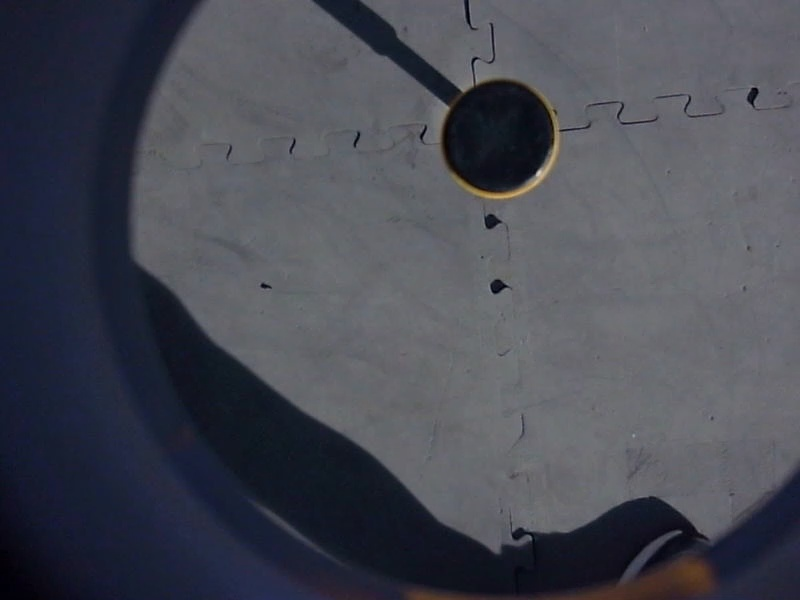tip: (434, 73, 568, 204)
